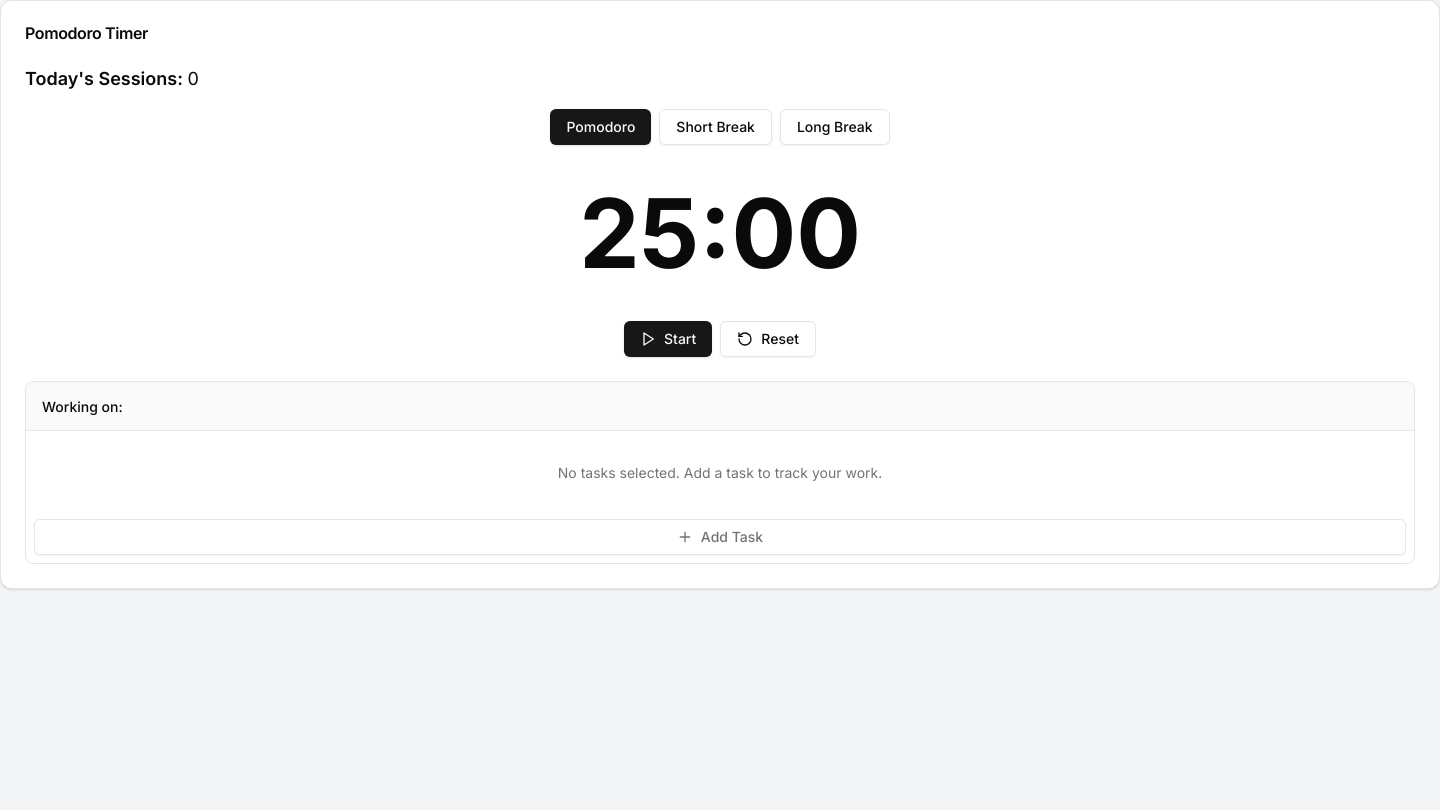
Test: PomodoroTimer › should start and pause timer
The image size is (1440, 810).
Step 1. Click the button "Start" → (668, 339), box [624,321,712,357]
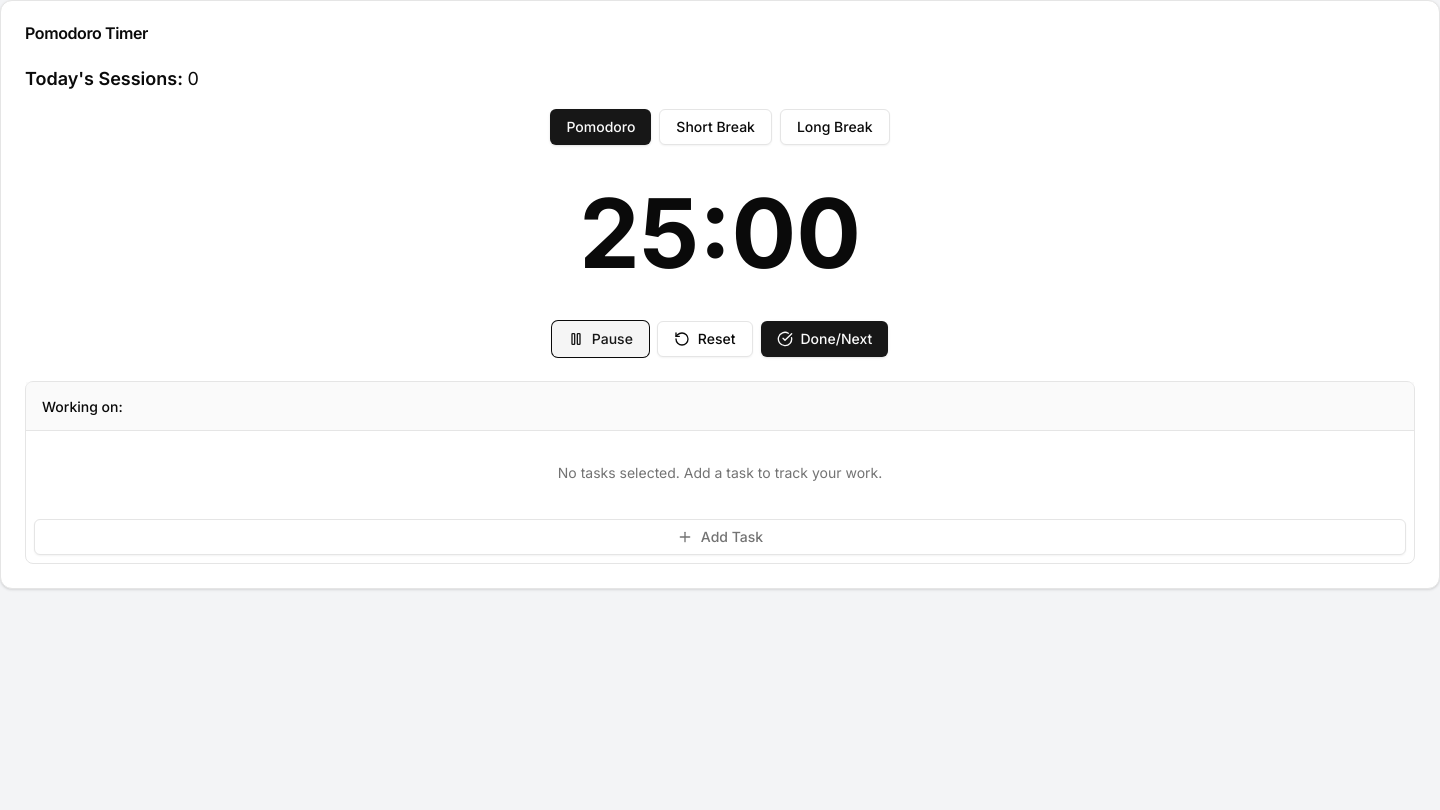
Check: the button "Pause" is shown
Step 2. Click the button "Pause" → (600, 339), box [552,321,649,357]
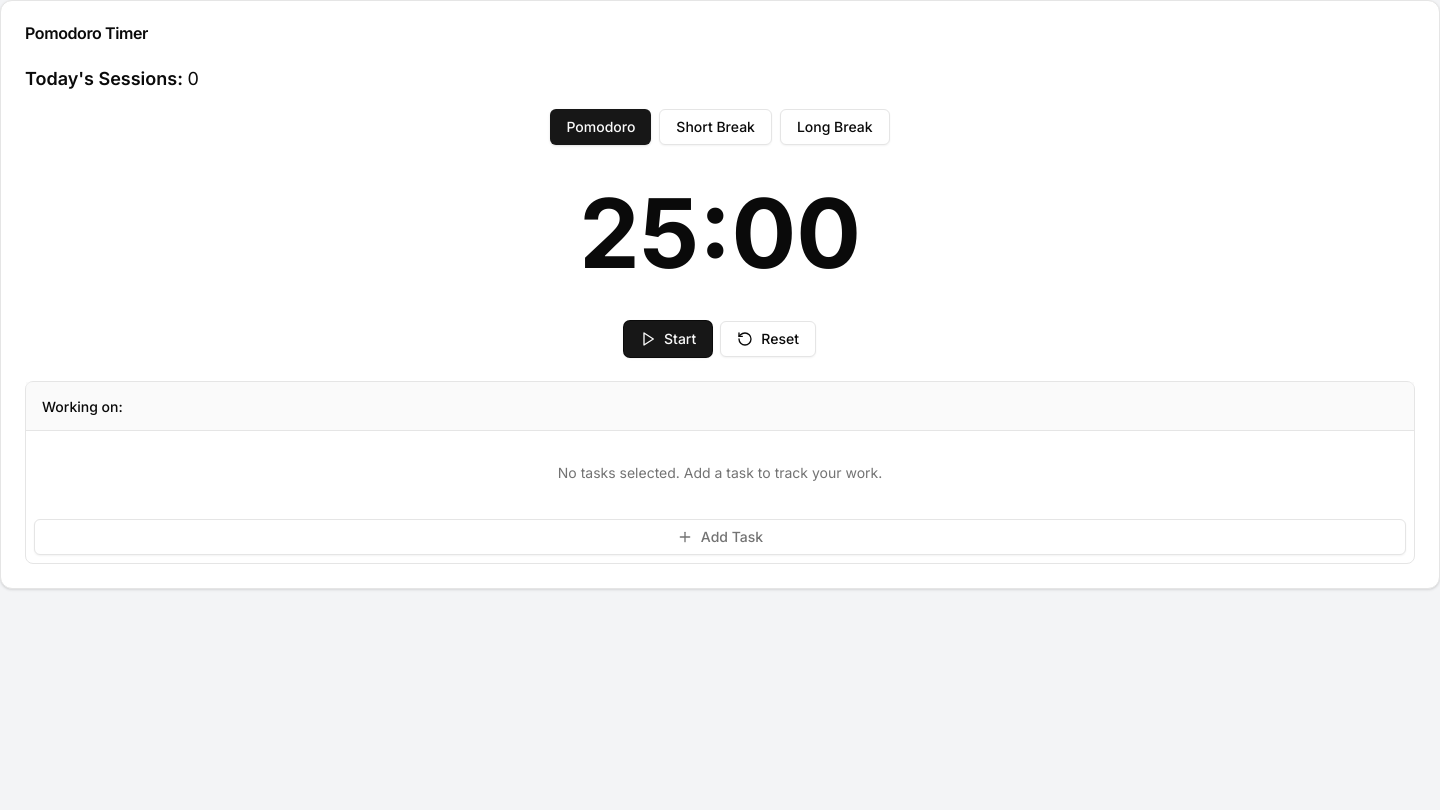
Check: the button "Start" is shown, box [624,321,712,357]
